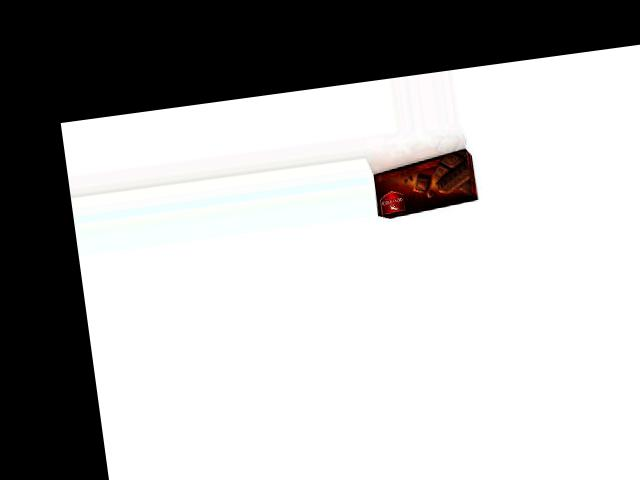chocolate: (370, 146, 477, 220)
